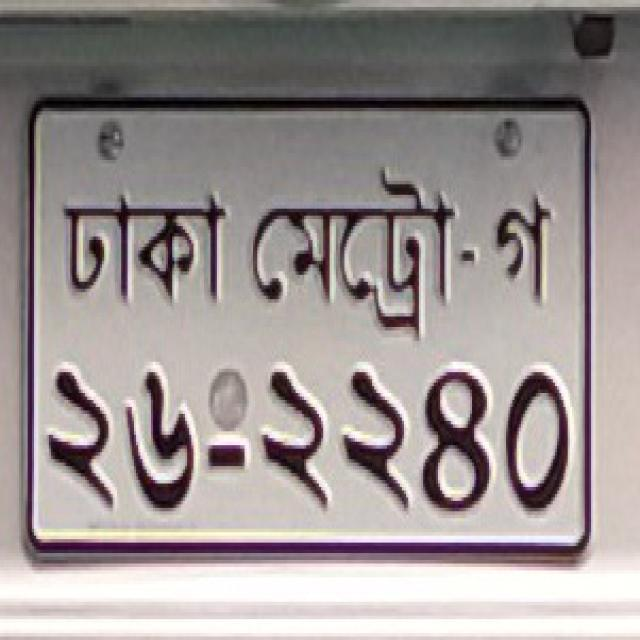cng: (26, 95, 591, 554)
